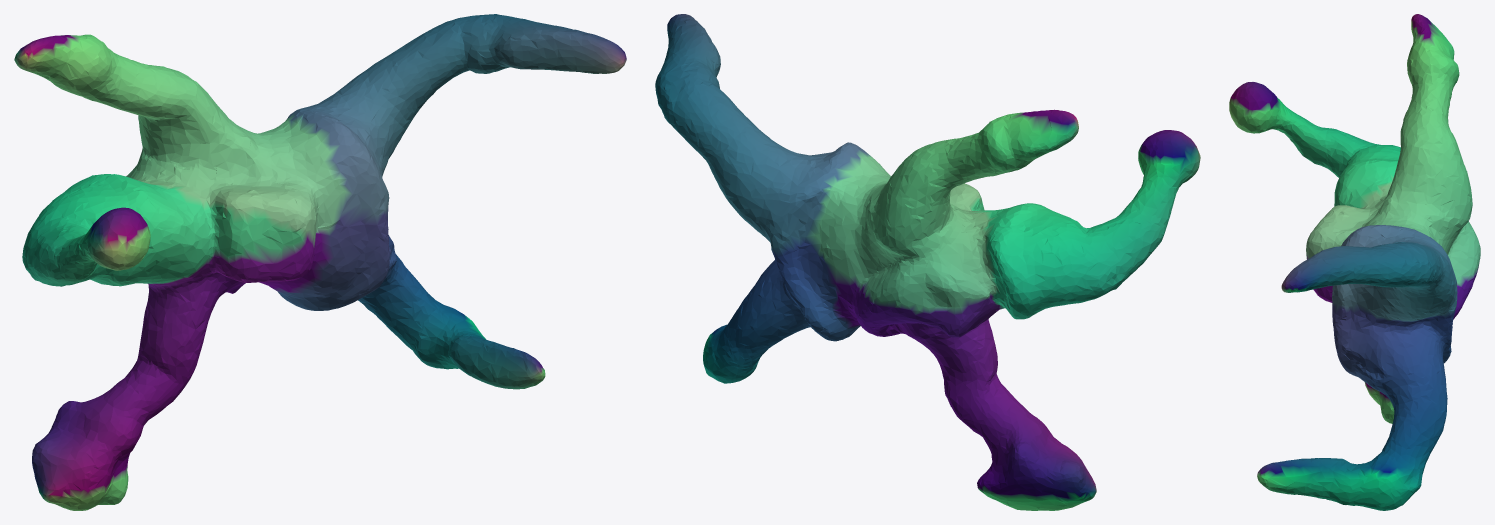
Rendered from santa-13.off.obj.
3 renders of one model, left to right at view 1: azimuth 30°, elevation 25°; view 2: azimuth 150°, elevation 25°; view 3: azimuth 270°, elevation 25°, orthographic. The views are drawn at different scales.
Size of the model in its own units: 1.41 by 1.12 by 0.6679.
